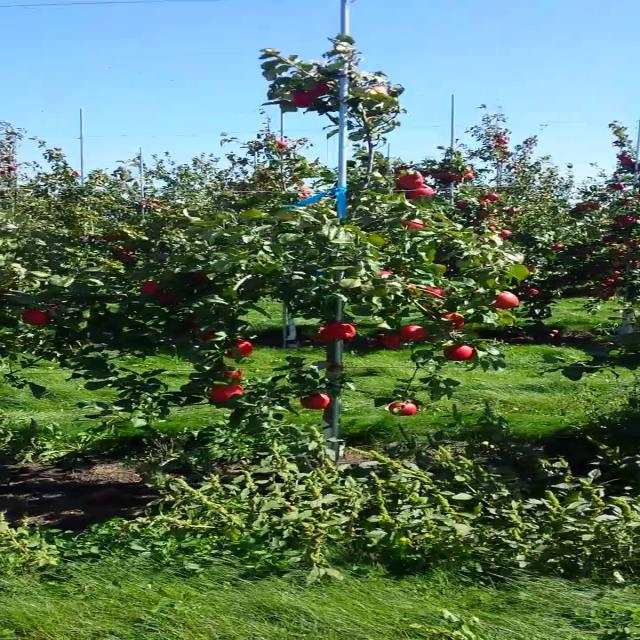apple: (207, 384, 243, 404), (321, 322, 358, 340), (222, 340, 254, 359), (442, 346, 476, 362), (300, 394, 332, 411), (490, 290, 518, 309), (290, 90, 316, 108), (387, 402, 417, 417), (398, 324, 426, 340), (379, 334, 408, 349), (22, 309, 49, 325), (442, 313, 466, 331), (397, 174, 423, 190), (405, 184, 433, 198), (311, 327, 334, 343), (307, 82, 329, 98), (139, 282, 160, 294), (445, 167, 464, 180), (196, 330, 216, 342), (402, 221, 425, 229), (432, 170, 451, 179), (619, 216, 637, 225), (423, 288, 443, 296), (158, 294, 174, 304), (228, 371, 244, 379), (195, 273, 209, 282), (300, 188, 312, 198), (602, 235, 620, 241), (499, 229, 512, 237), (275, 140, 288, 148), (152, 250, 166, 257), (509, 207, 522, 214), (486, 193, 498, 200), (551, 242, 563, 249), (622, 160, 634, 167), (614, 261, 626, 268), (610, 270, 622, 277), (481, 211, 495, 217), (377, 270, 390, 276), (613, 183, 624, 190), (604, 278, 615, 285), (116, 245, 127, 252), (457, 200, 469, 206), (614, 250, 626, 256), (100, 234, 112, 240), (126, 245, 138, 251), (618, 153, 629, 159), (480, 199, 491, 205), (149, 202, 160, 208), (124, 254, 135, 260), (624, 199, 633, 206), (623, 239, 632, 246), (507, 218, 516, 225), (577, 204, 587, 210), (514, 163, 522, 170), (292, 176, 300, 183), (111, 232, 119, 239), (0, 170, 9, 176), (590, 203, 600, 208), (463, 166, 471, 172), (465, 174, 477, 178), (490, 227, 498, 233), (70, 172, 78, 178), (502, 140, 512, 144), (9, 166, 18, 170), (502, 144, 510, 148), (141, 200, 146, 206), (504, 150, 511, 154), (492, 222, 499, 226), (498, 138, 505, 141), (494, 143, 499, 146)
